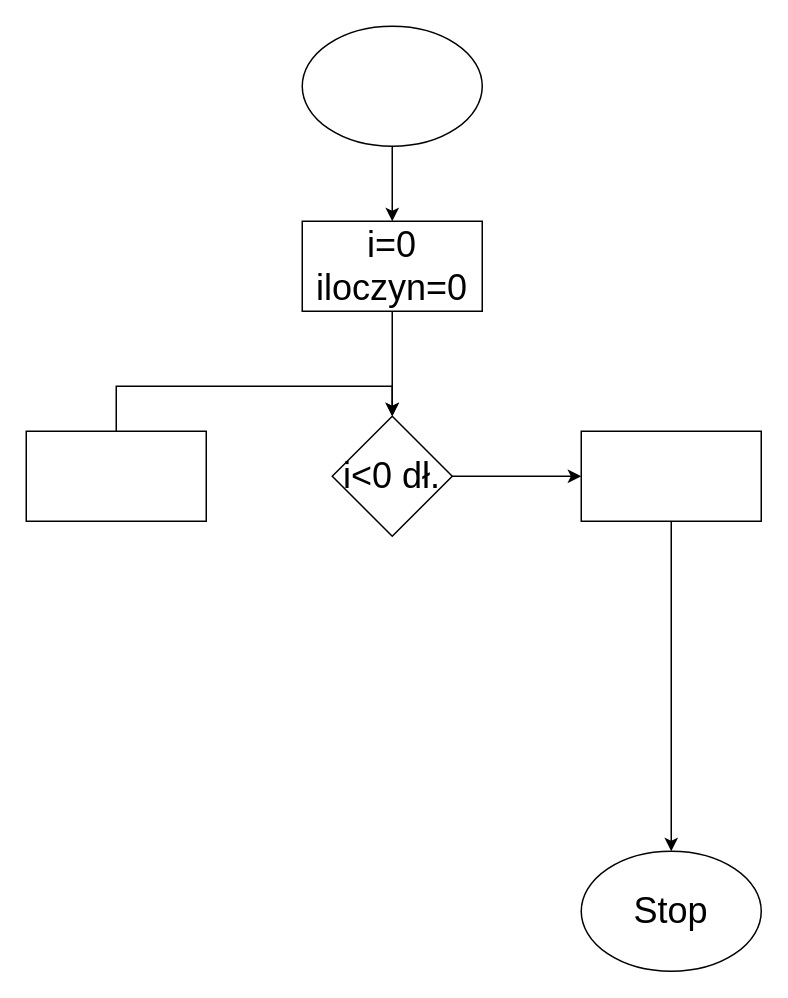
The diagram is 788 pixels wide and 998 high, and some of its shapes have lost their labels. The shapes that lost their labels are listed below. From the top down, each one's centre as x and y in pixels, then its label:
At point 391,85: "Start".
At point 670,475: "Wyświetl".
